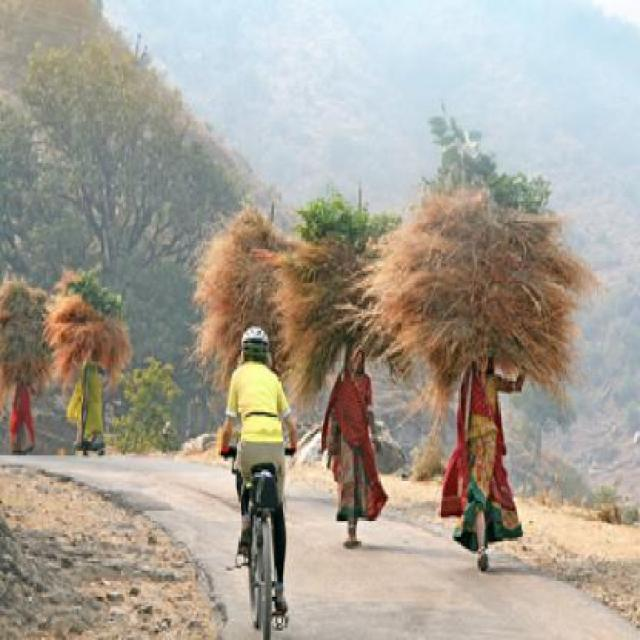With Helmet: (238, 322, 271, 364)
